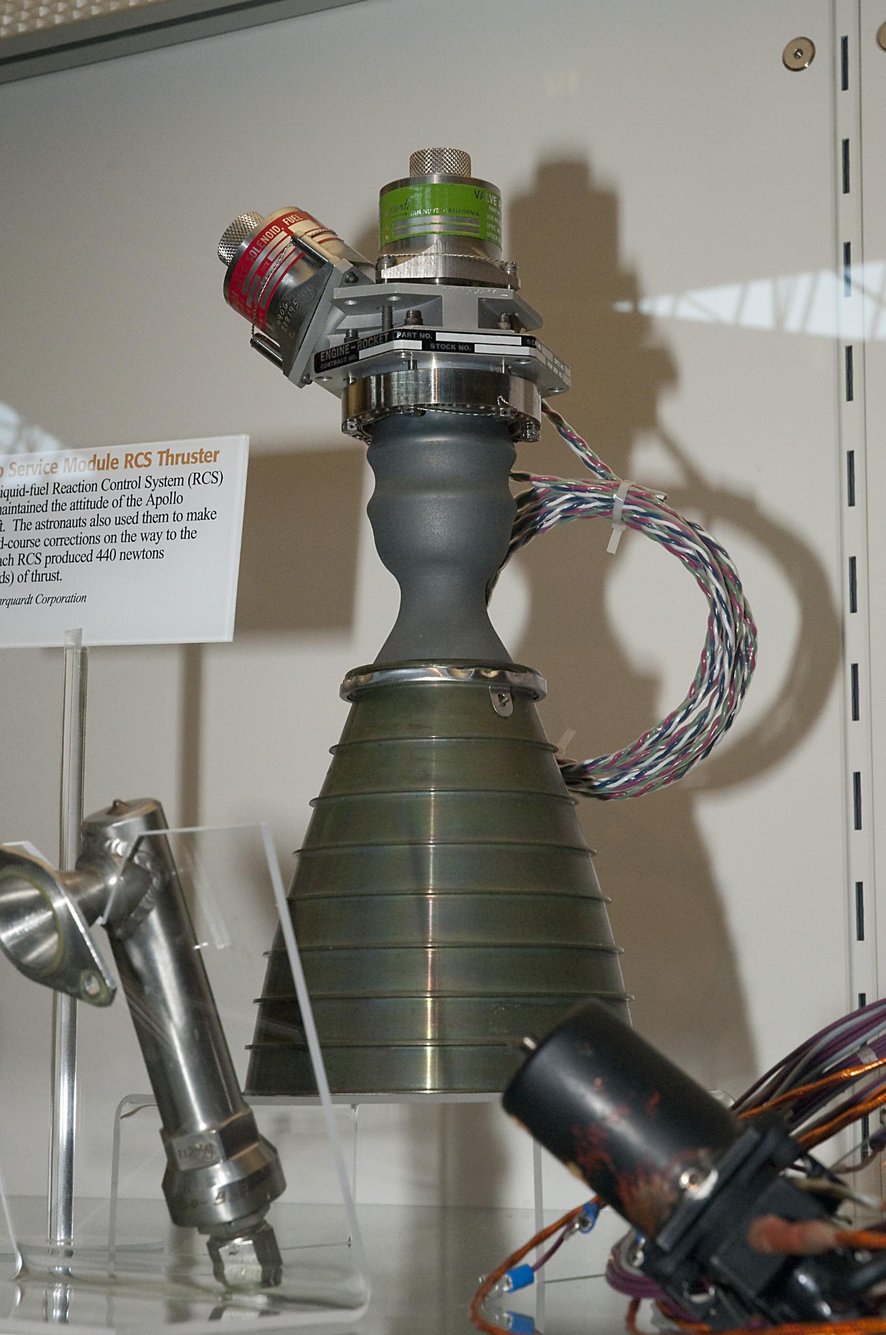thruster: (245, 590, 619, 1130)
